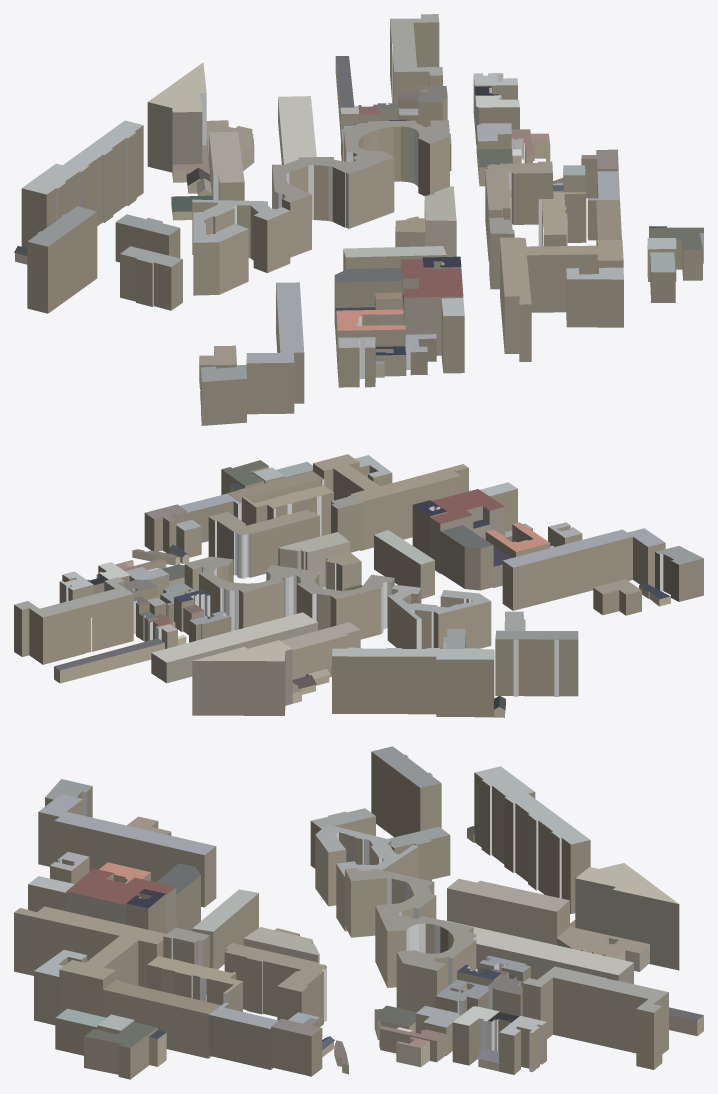
The picture shows the model from 3 angles, top to bottom: view 1: azimuth 30°, elevation 25°; view 2: azimuth 150°, elevation 25°; view 3: azimuth 270°, elevation 25°; orthographic projection. The views are drawn at different scales.
Parts seen in each view (by area): view 1: tuile; view 2: tuile; view 3: tuile.
Boxes of the visible parts, x1=… form: tuile: x1=14, y1=14, x2=703, y2=425; tuile: x1=14, y1=454, x2=703, y2=717; tuile: x1=14, y1=746, x2=703, y2=1079.
Bounding box in the file's own units: 268 × 33.84 × 283.
